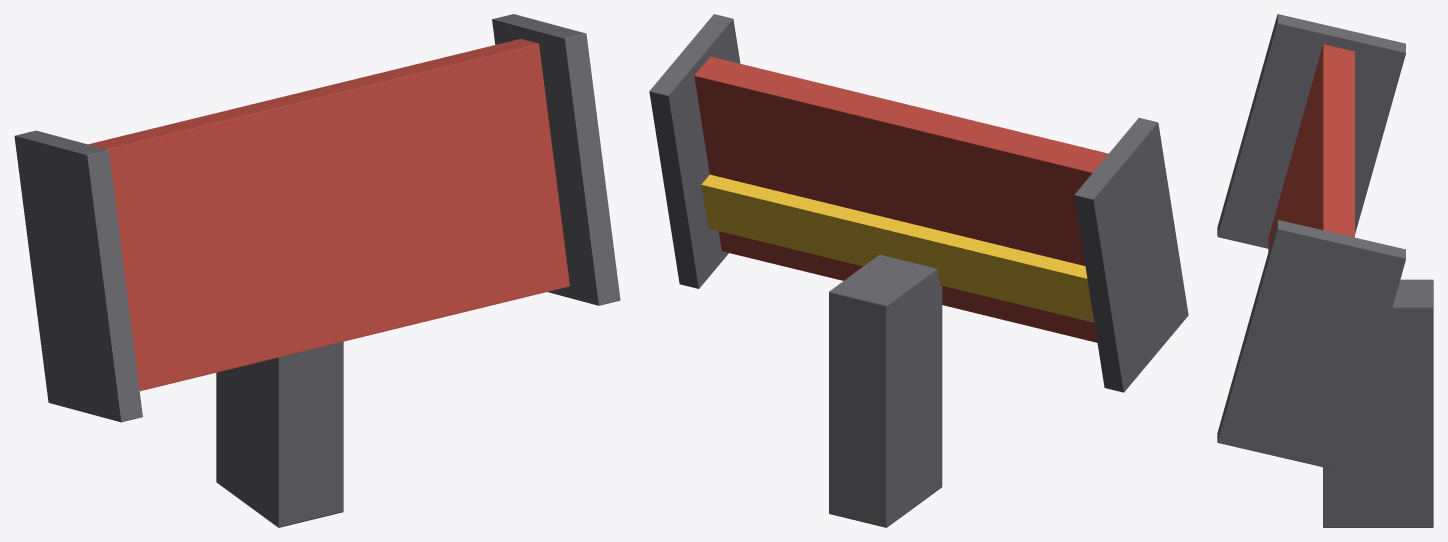
File: aero-sail.glb
3 renders of one model, left to right at view 1: azimuth 30°, elevation 25°; view 2: azimuth 150°, elevation 25°; view 3: azimuth 270°, elevation 25°, orthographic. The views are drawn at different scales.
Parts seen in each view (by area): view 1: sail, endplate_r, pylon, endplate_l; view 2: sail, pylon, endplate_r, sailstripe, endplate_l; view 3: endplate_l, endplate_r, pylon, sail.
Part boxes in pixels (<box>): sail: <box>88,39,569,391</box>; endplate_r: <box>14,130,142,422</box>; pylon: <box>216,341,343,527</box>; endplate_l: <box>492,14,620,305</box>; sail: <box>694,56,1108,342</box>; pylon: <box>829,254,942,527</box>; endplate_r: <box>1074,117,1188,392</box>; sailstripe: <box>701,174,1094,322</box>; endplate_l: <box>649,14,740,288</box>; endplate_l: <box>1217,220,1405,472</box>; endplate_r: <box>1217,14,1405,248</box>; pylon: <box>1323,279,1433,527</box>; sail: <box>1268,44,1354,251</box>.
Bounding box in the file's own units: 0.46 × 0.3914 × 0.1952.
